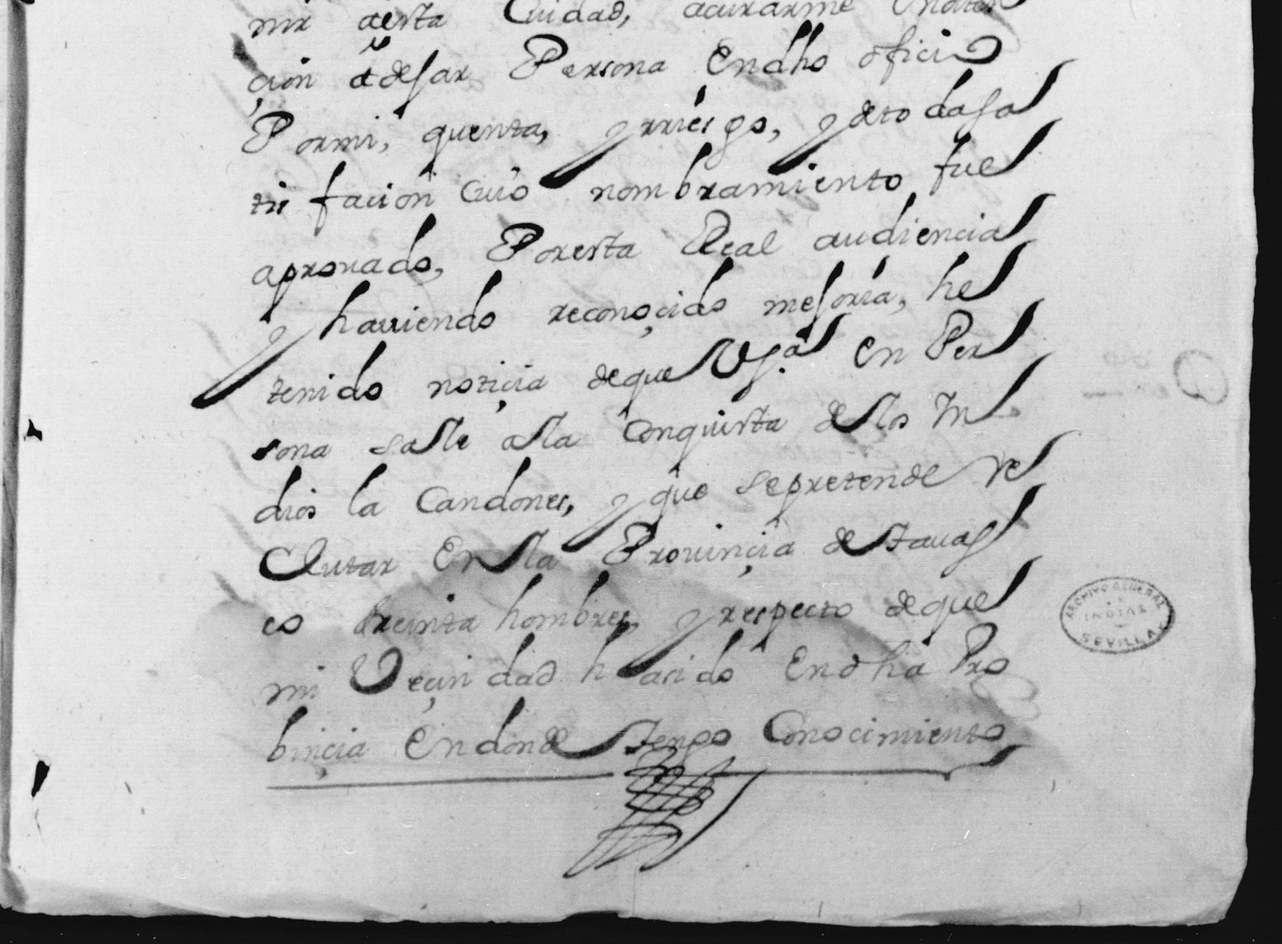lacandon: (348, 456, 569, 517)
